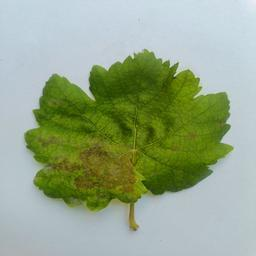Powdery-Mildew: (94, 147, 136, 188), (43, 132, 70, 161), (46, 92, 63, 109), (166, 139, 183, 156), (182, 129, 199, 145)
